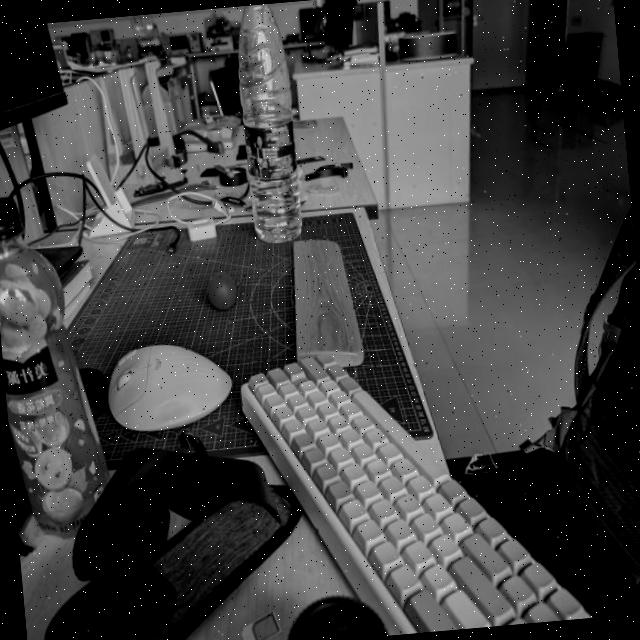ping-pong-ball: (206, 270, 236, 314)
